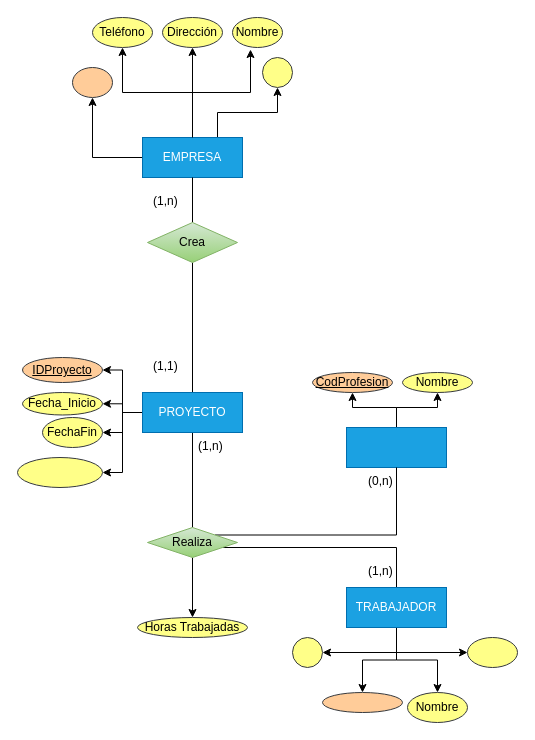
This 535x740 diagram has some shape labels left out. Each missing label, with the box of its shape:
Apellidos: (466, 636, 518, 668)
CIF: (262, 56, 292, 88)
Cod: (72, 66, 112, 98)
DNI: (292, 636, 322, 668)
FechaPrevista: (16, 456, 102, 488)
IDTrabajador: (322, 692, 402, 712)
PROFESION: (346, 426, 446, 468)
